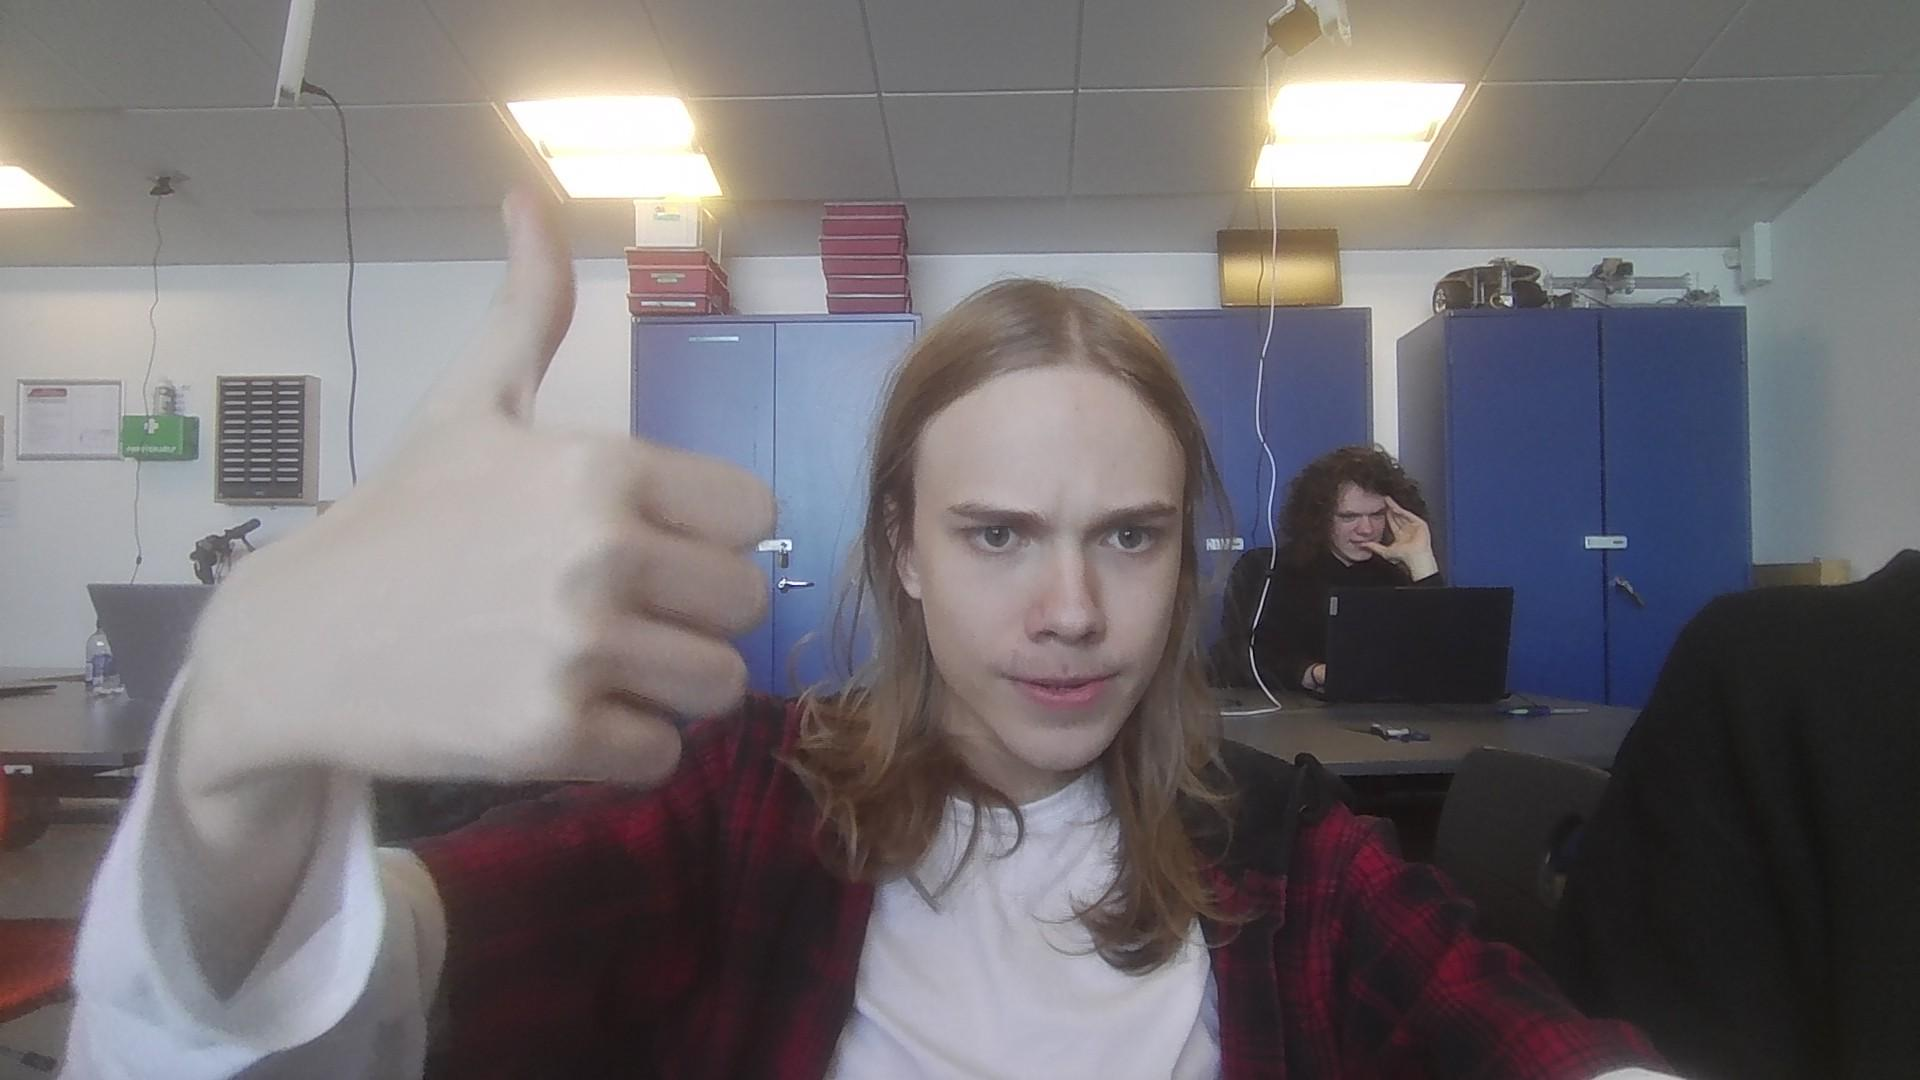thumbs up: (272, 200, 779, 791)
